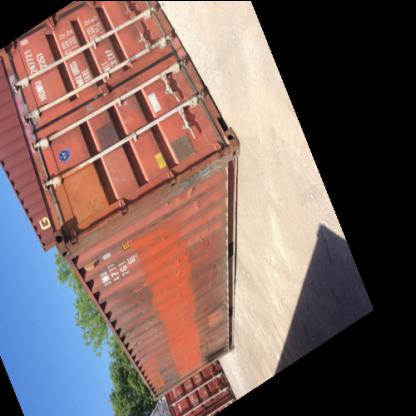Damage: (122, 278, 154, 334), (190, 258, 222, 300), (138, 207, 176, 231), (192, 334, 230, 356), (183, 230, 221, 252), (150, 364, 174, 386), (188, 182, 204, 208), (167, 252, 181, 274)
